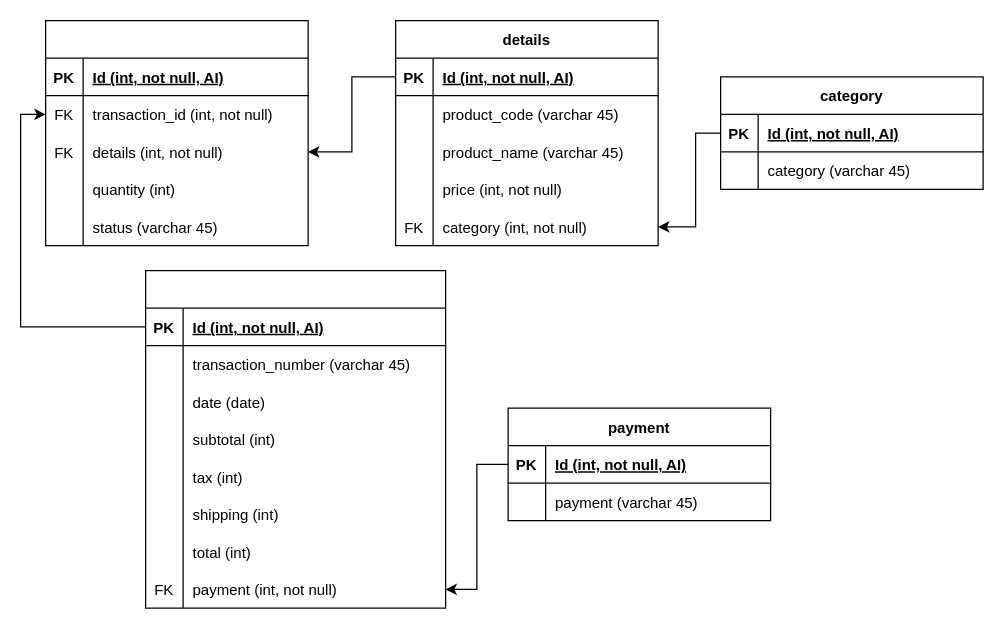
The diagram is 1004 pixels wide and 629 high, and some of its shapes have lost their labels. The box of each missing label's shape, as (x1, y1, x2, y2) in pixels:
account_id: (144, 269, 446, 608)
product: (44, 19, 308, 246)
